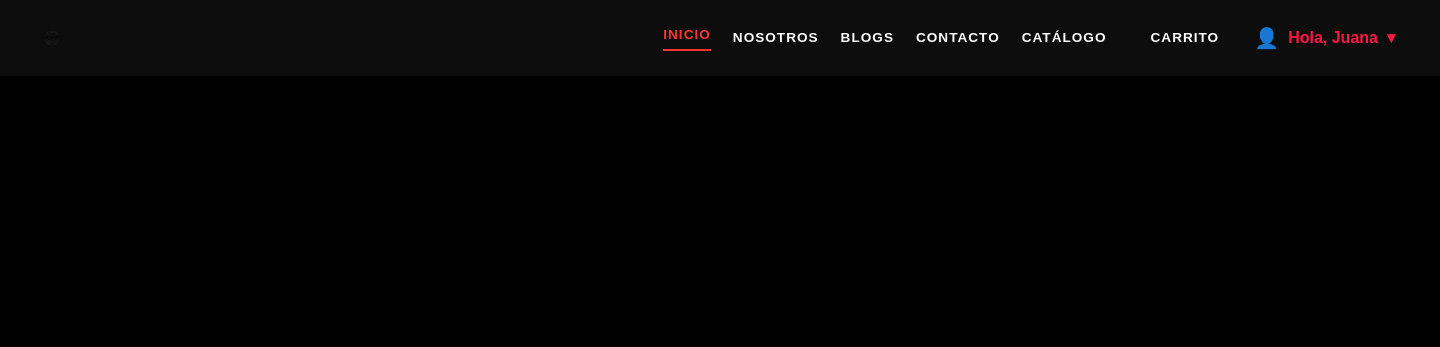
Test: Facture Sneakers - Navbar › debe cerrar el menú del perfil con la tecla Escape
Click the button "👤 Hola, Juana ▾". click: (1325, 38)
box: [1241,12,1408,64]
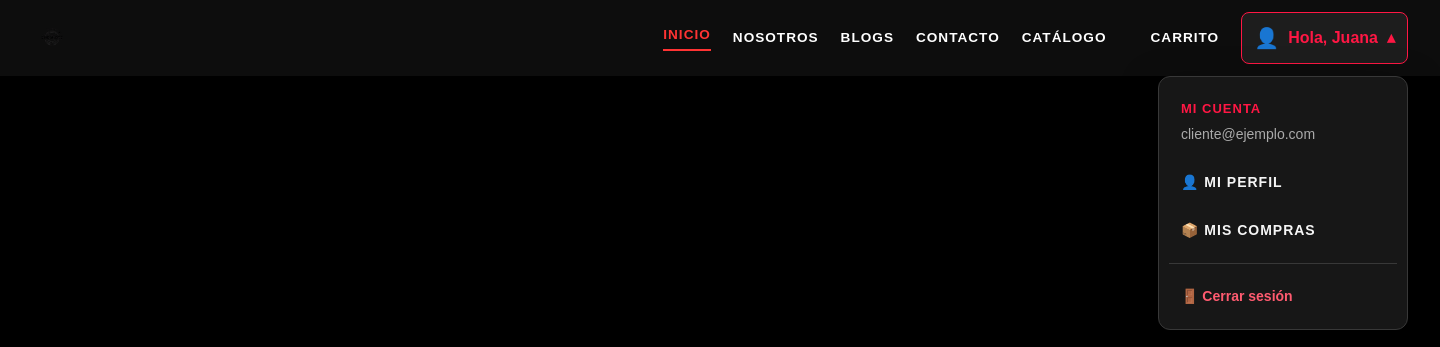
Expected: the button "👤 Hola, Juana ▴" is expanded, [1241,12,1408,64]
Press Escape
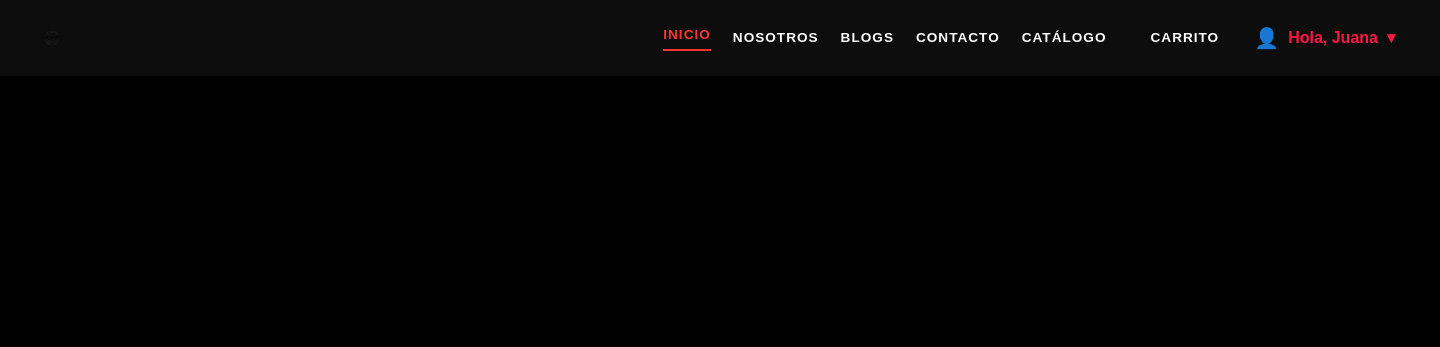
Expected: the button "👤 Hola, Juana ▾" is collapsed, [1241,12,1408,64]
